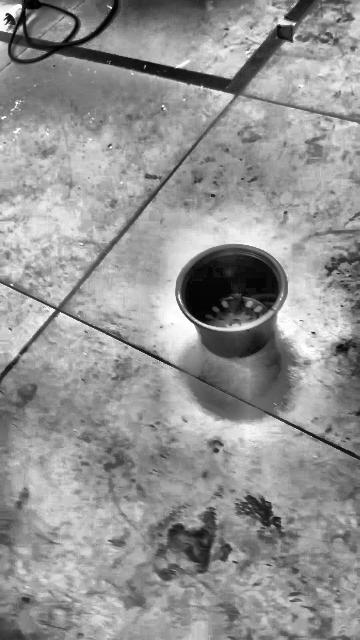pot: (175, 244, 287, 357)
